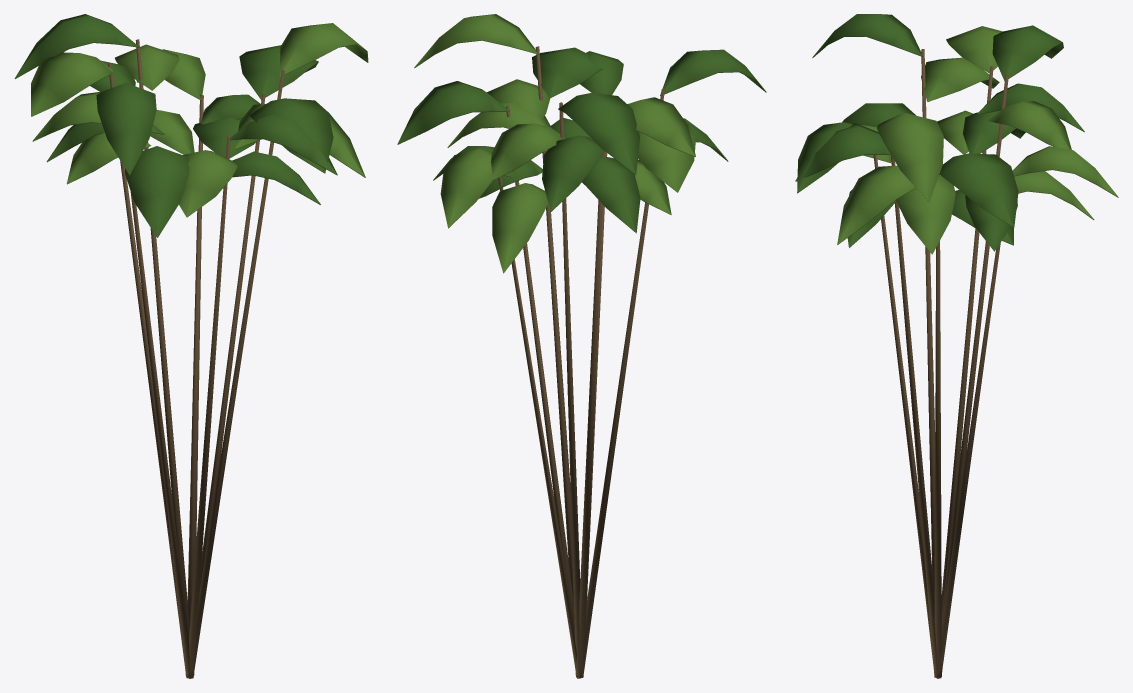
The model's file is undergrowth.glb.
The picture shows the model from 3 angles, left to right: view 1: azimuth 30°, elevation 25°; view 2: azimuth 150°, elevation 25°; view 3: azimuth 270°, elevation 25°; orthographic projection. The views are drawn at different scales.
Visible parts, largest first — view 1: Coastal broadleaf shrub; view 2: Coastal broadleaf shrub; view 3: Coastal broadleaf shrub.
Part boxes in pixels (<box>): Coastal broadleaf shrub: <box>14,14,368,678</box>; Coastal broadleaf shrub: <box>397,14,766,678</box>; Coastal broadleaf shrub: <box>795,14,1118,678</box>.
Size of the model in its own units: 1.44 by 2.83 by 1.34.
